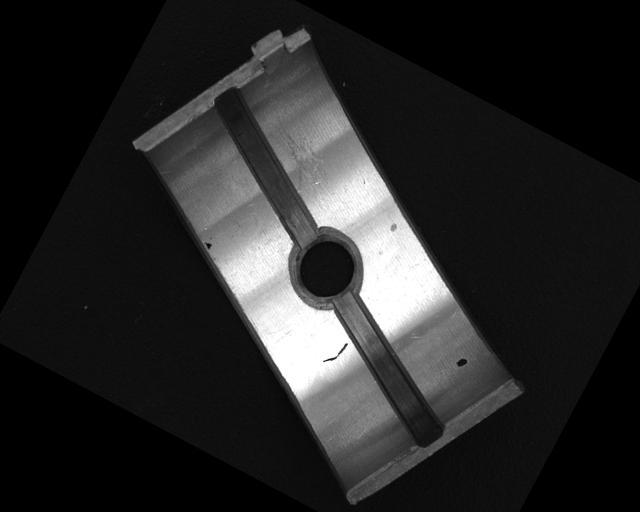blot: (454, 354, 470, 371), (202, 239, 214, 251)
bruise: (386, 221, 399, 235)
gap: (175, 84, 359, 251), (299, 288, 475, 446)
hole: (276, 221, 373, 318)
nick: (322, 336, 350, 369)
scratch: (248, 113, 338, 199)
